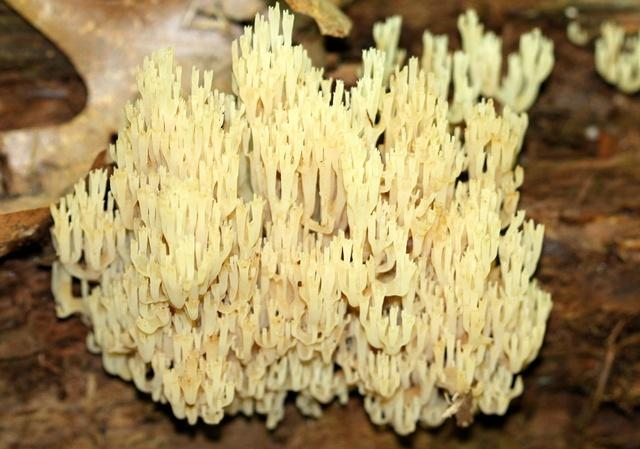edible_mushroom: (47, 3, 556, 435), (592, 17, 639, 94)
